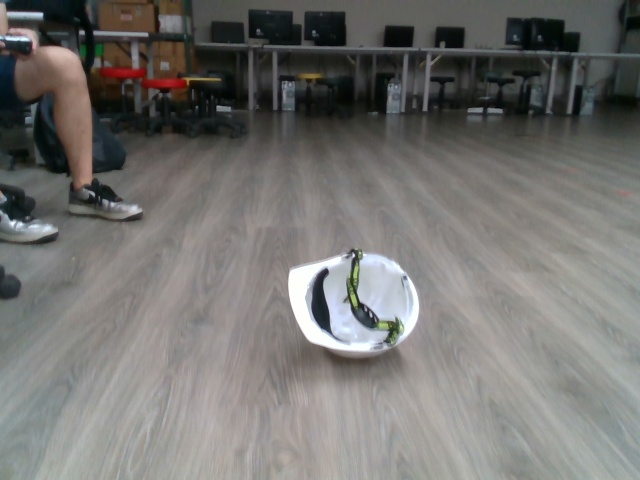helmet: (287, 246, 421, 357)
